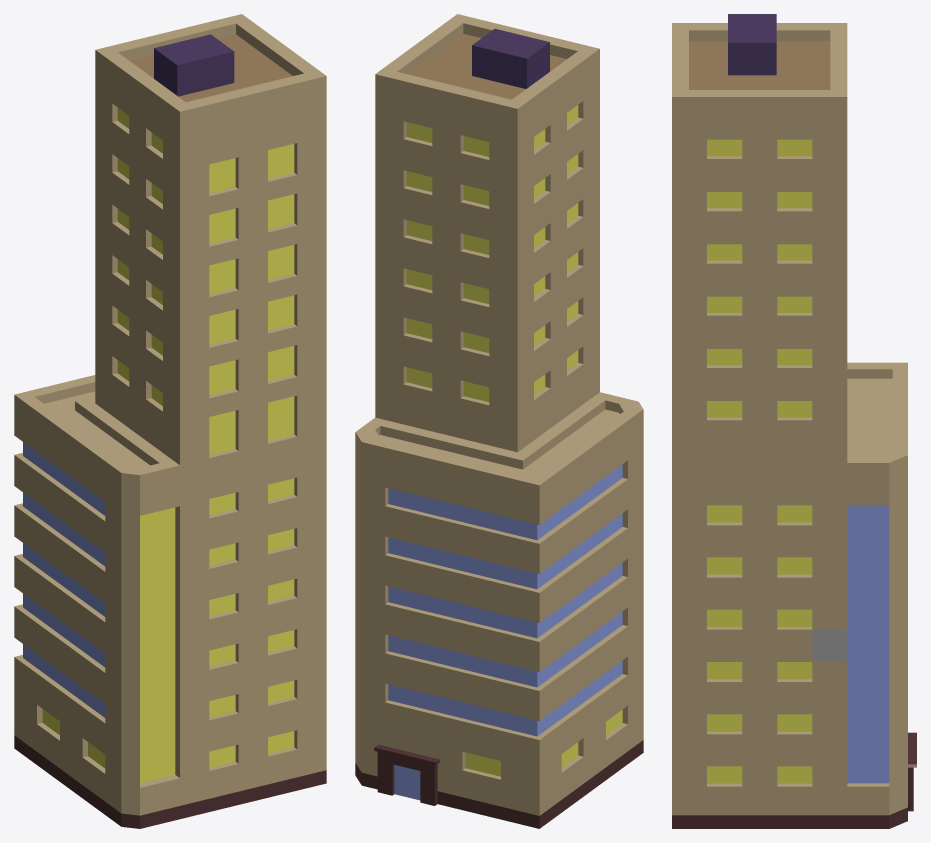
The model's file is Target_Building_1.fbx.
3 renders of one model, left to right at view 1: azimuth 30°, elevation 25°; view 2: azimuth 150°, elevation 25°; view 3: azimuth 270°, elevation 25°, orthographic. The views are drawn at different scales.
Parts seen in each view (by area): view 1: Building_1; view 2: Building_1; view 3: Building_1.
Boxes of the visible parts, x1=… form: Building_1: x1=14, y1=14, x2=326, y2=828; Building_1: x1=355, y1=14, x2=643, y2=828; Building_1: x1=672, y1=14, x2=916, y2=828.
Bounding box in the file's own units: 13.86 × 48.59 × 14.31.
